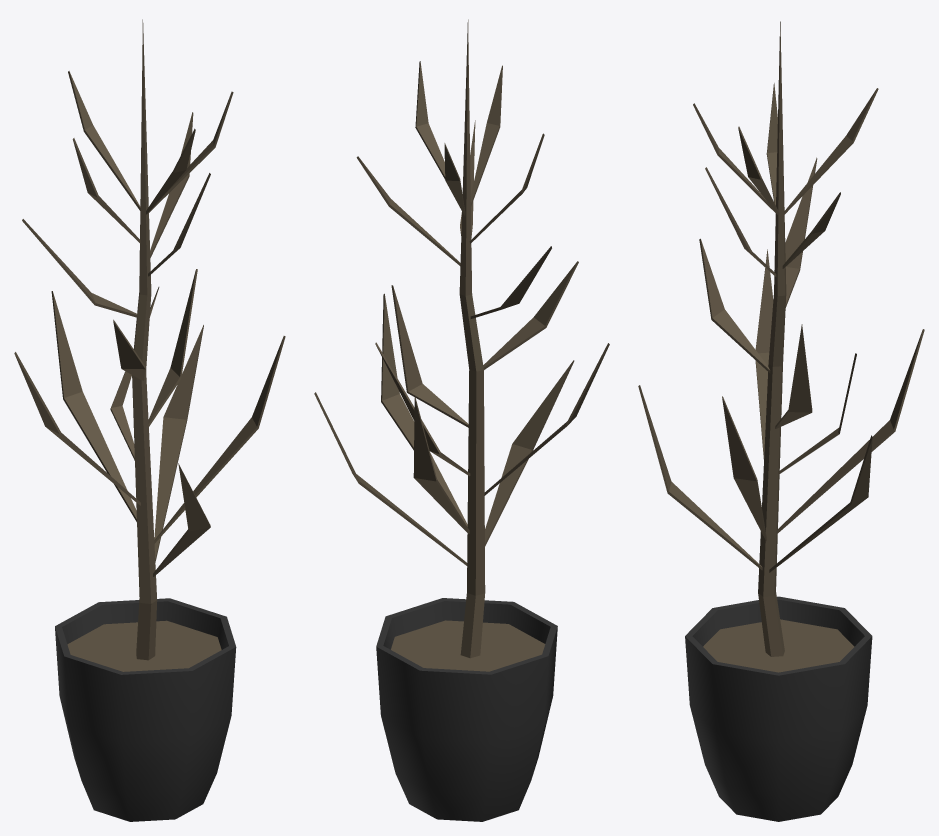
The model's file is houseplant-8.glb.
The picture shows the model from 3 angles, left to right: view 1: azimuth 30°, elevation 25°; view 2: azimuth 150°, elevation 25°; view 3: azimuth 270°, elevation 25°; orthographic projection.
Parts seen in each view (by area): view 1: Houseplant_8; view 2: Houseplant_8; view 3: Houseplant_8.
Part boxes in pixels (bbox=[...]): Houseplant_8: bbox=[14, 19, 285, 821]; Houseplant_8: bbox=[314, 19, 609, 821]; Houseplant_8: bbox=[638, 21, 924, 821].
Size of the model in its own units: 0.5171 by 1.56 by 0.5171.
